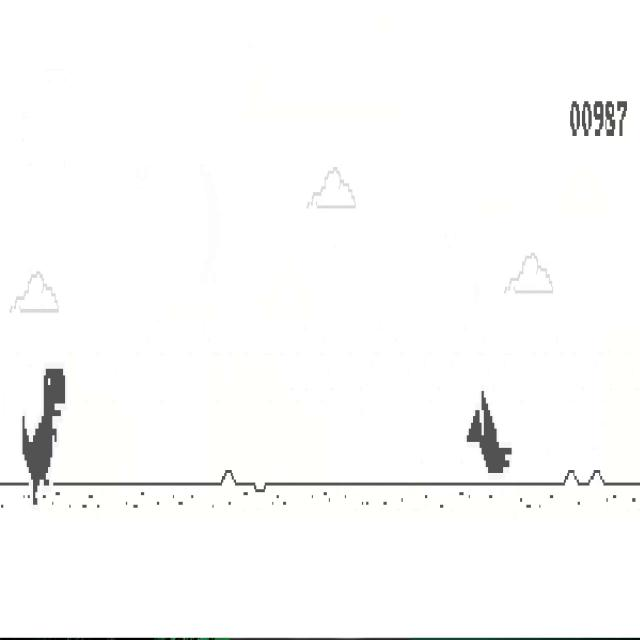dino: (21, 368, 66, 506)
ptero: (466, 389, 512, 474)
